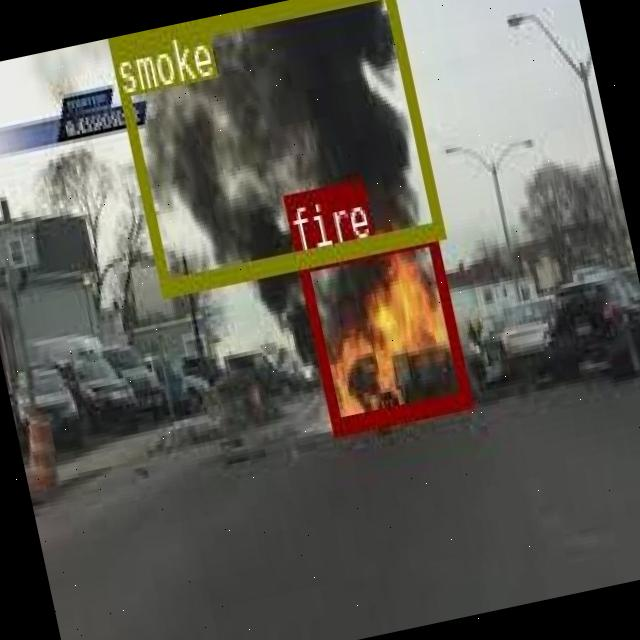fire: (295, 226, 470, 433)
smoke: (107, 0, 443, 295)
